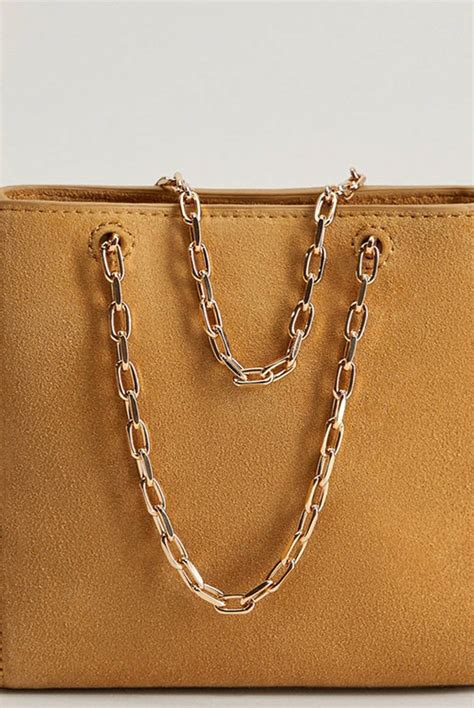gamuza: (2, 183, 474, 687)
